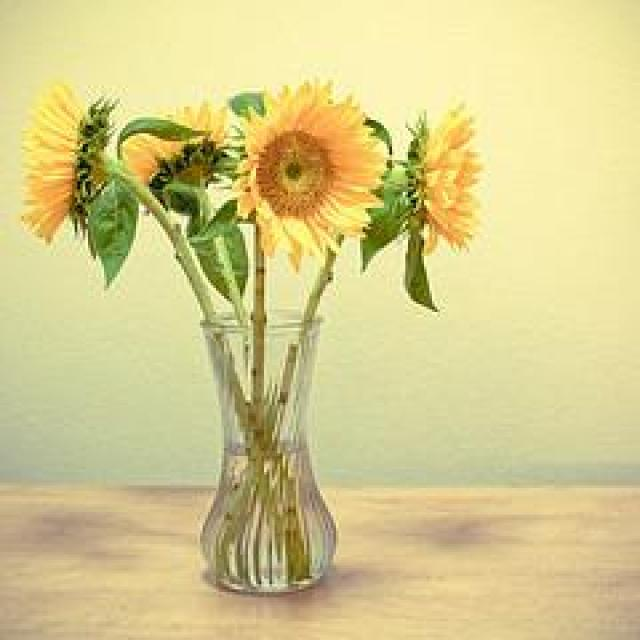sunflower: (236, 79, 383, 268), (19, 86, 112, 246), (396, 111, 479, 249), (124, 99, 220, 173)
